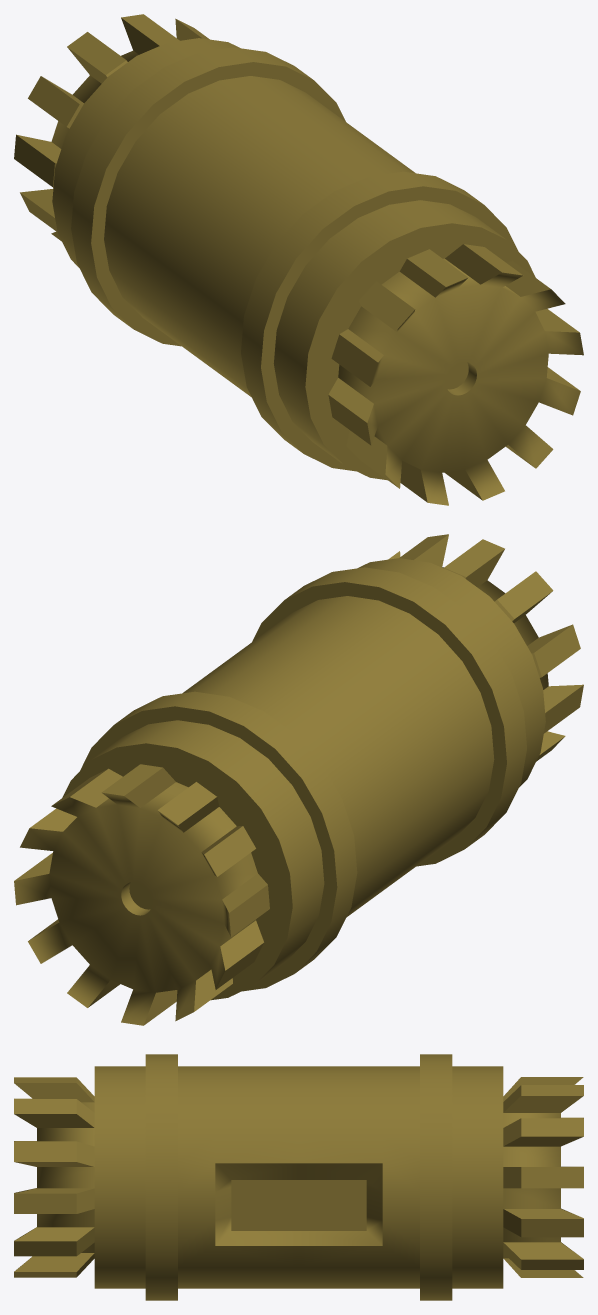
Rendered from Generator01.fbx.
3 views of the same model, one above another, from view 1: azimuth 30°, elevation 25°; view 2: azimuth 150°, elevation 25°; view 3: azimuth 270°, elevation 25° (orthographic). The views are drawn at different scales.
Parts seen in each view (by area): view 1: polySurface958; view 2: polySurface958; view 3: polySurface958.
Boxes of the visible parts, left/top/right/bottom form: polySurface958: left=14, top=14, right=583, bottom=505; polySurface958: left=14, top=534, right=583, bottom=1025; polySurface958: left=14, top=1054, right=583, bottom=1300.
Bounding box in the file's own units: 233 × 233 × 534.
